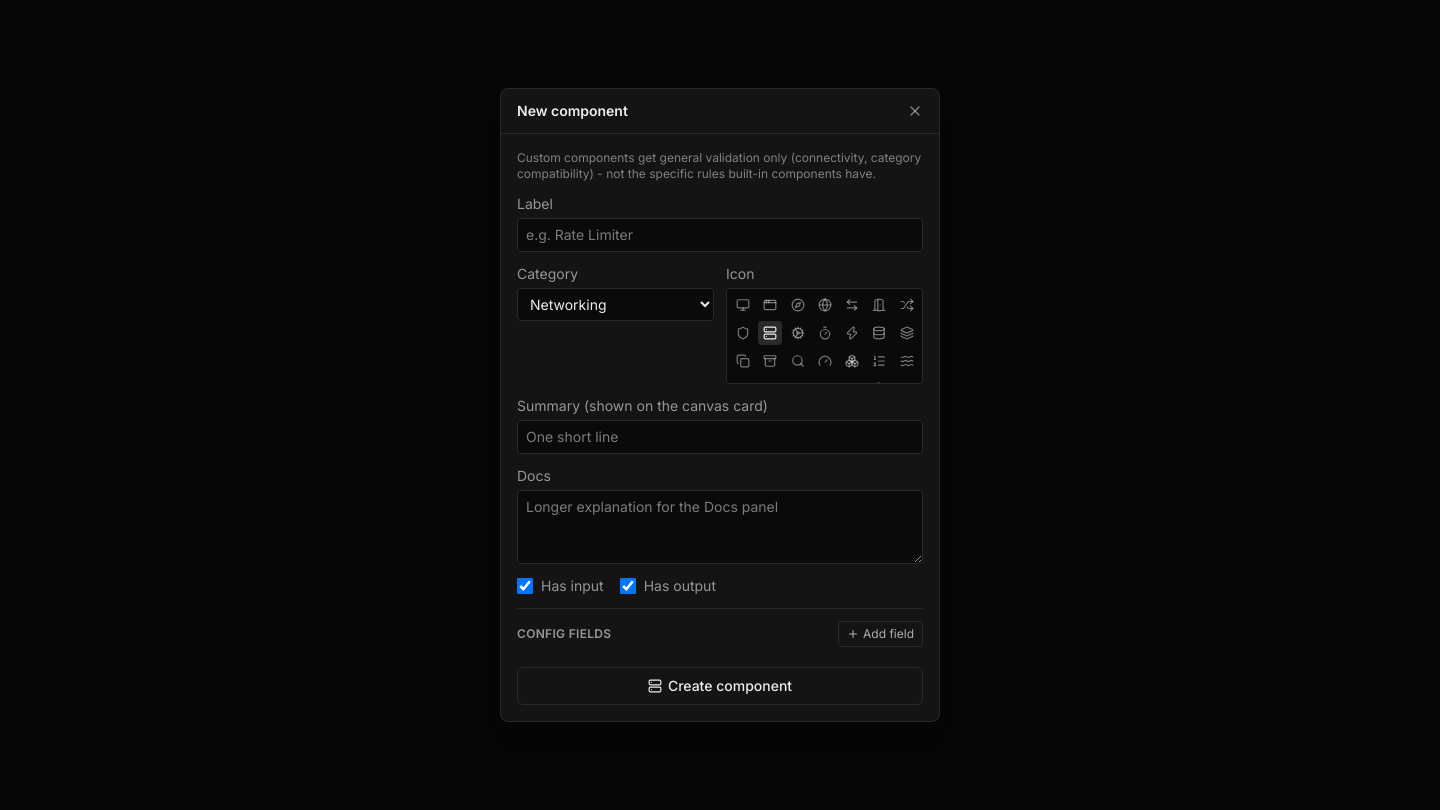
Scenario: CreateComponentModal › adding a field and leaving its name blank shows a field-specific error and blocks save
The width and height of the screenshot is (1440, 810).
In the field with placeholder "e.g. Rate Limiter": [720, 235] box [517, 218, 923, 252], type "Widget"
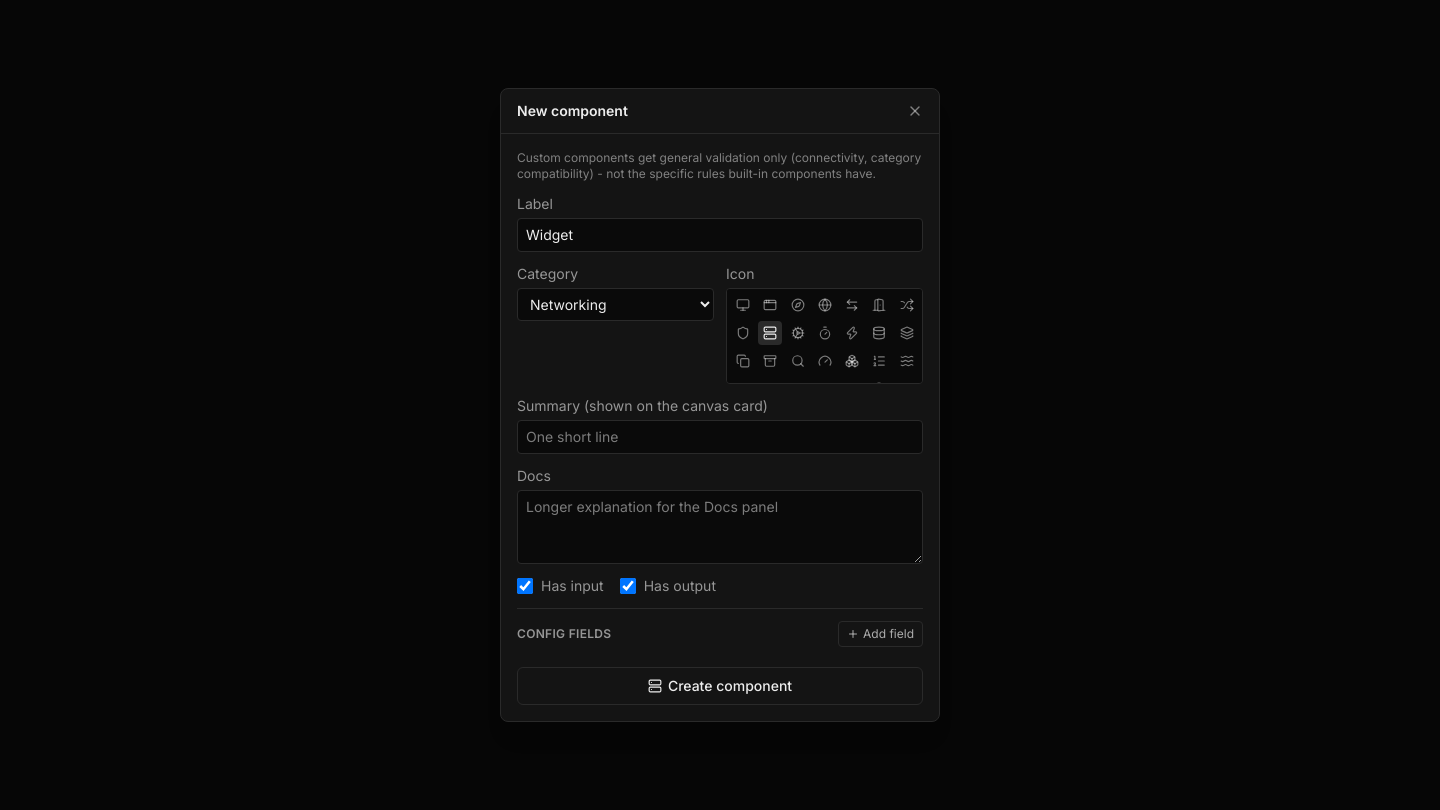
Click the button "Add field": [880, 634] box [838, 621, 923, 647]
(page scrolled)
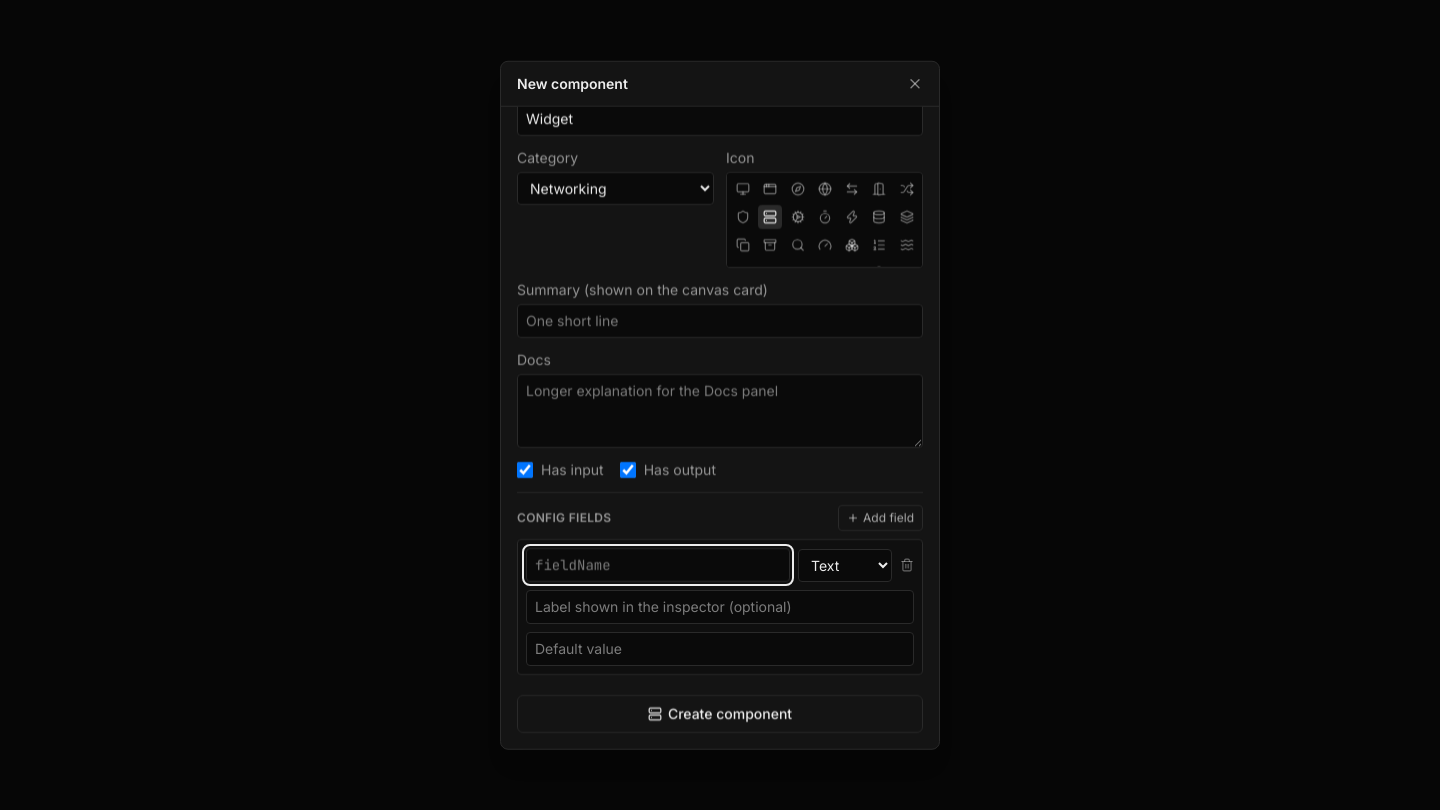
Click the button "Create component": [720, 714] box [517, 695, 923, 733]
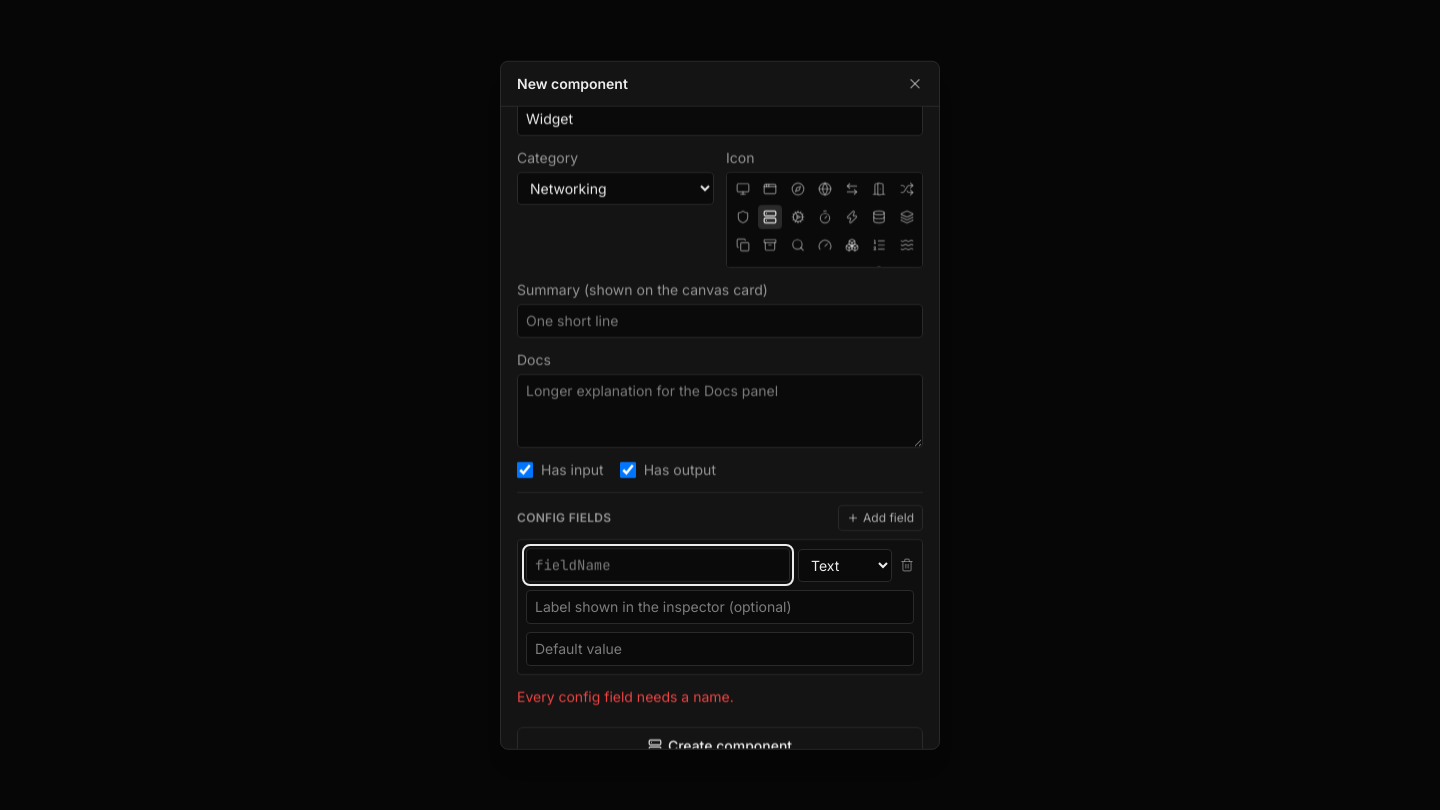
Expected: the text "Every config field needs a name." is shown, [517, 688, 734, 705]
